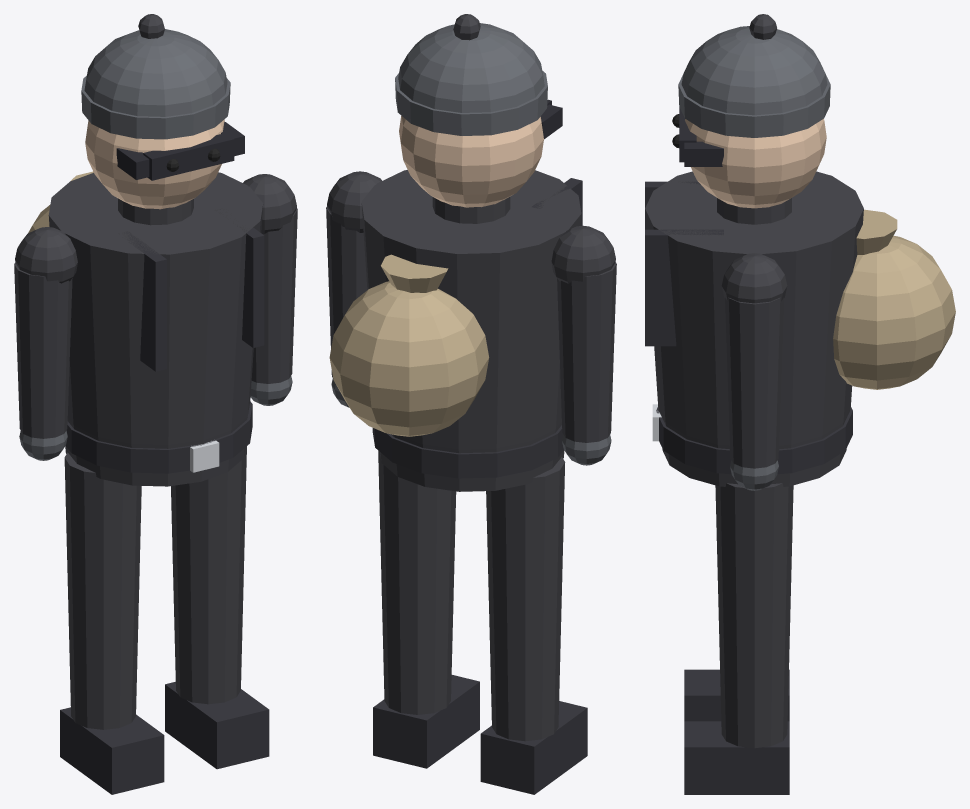
The model's file is voleur_lowpoly.glb.
The picture shows the model from 3 angles, left to right: view 1: azimuth 30°, elevation 25°; view 2: azimuth 150°, elevation 25°; view 3: azimuth 270°, elevation 25°; orthographic projection. The views are drawn at different scales.
Parts seen in each view (by area): view 1: Voleur_LowPoly; view 2: Voleur_LowPoly; view 3: Voleur_LowPoly.
Boxes of the visible parts, bbox=[...] form: Voleur_LowPoly: bbox=[14, 14, 297, 794]; Voleur_LowPoly: bbox=[326, 14, 616, 794]; Voleur_LowPoly: bbox=[645, 14, 955, 794].
Size of the model in its own units: 0.736 by 1.87 by 0.71.
